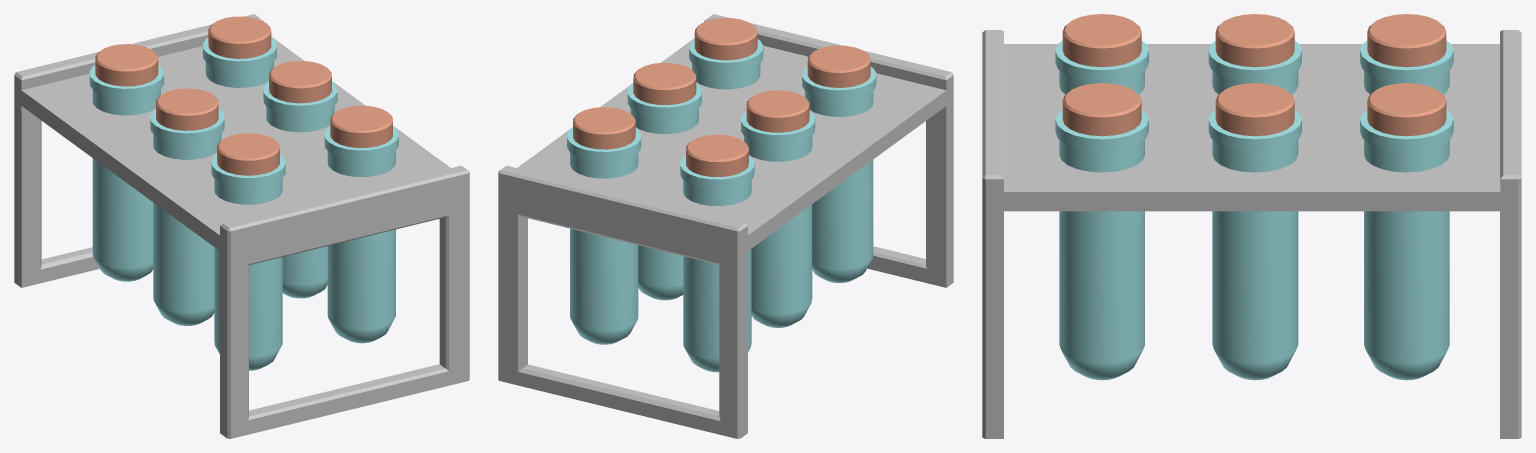
The model's file is Test_tubes (updated).fbx.
3 views of the same model, side by side, from view 1: azimuth 30°, elevation 25°; view 2: azimuth 150°, elevation 25°; view 3: azimuth 270°, elevation 25° (orthographic). The views are drawn at different scales.
Parts seen in each view (by area): view 1: TestTubes; view 2: TestTubes; view 3: TestTubes.
Part boxes in pixels (x1,y1,x2,y2): TestTubes: (14,14,469,438); TestTubes: (498,14,953,438); TestTubes: (982,14,1521,438).
Size of the model in its own units: 61.95 by 59.1 by 95.44.
